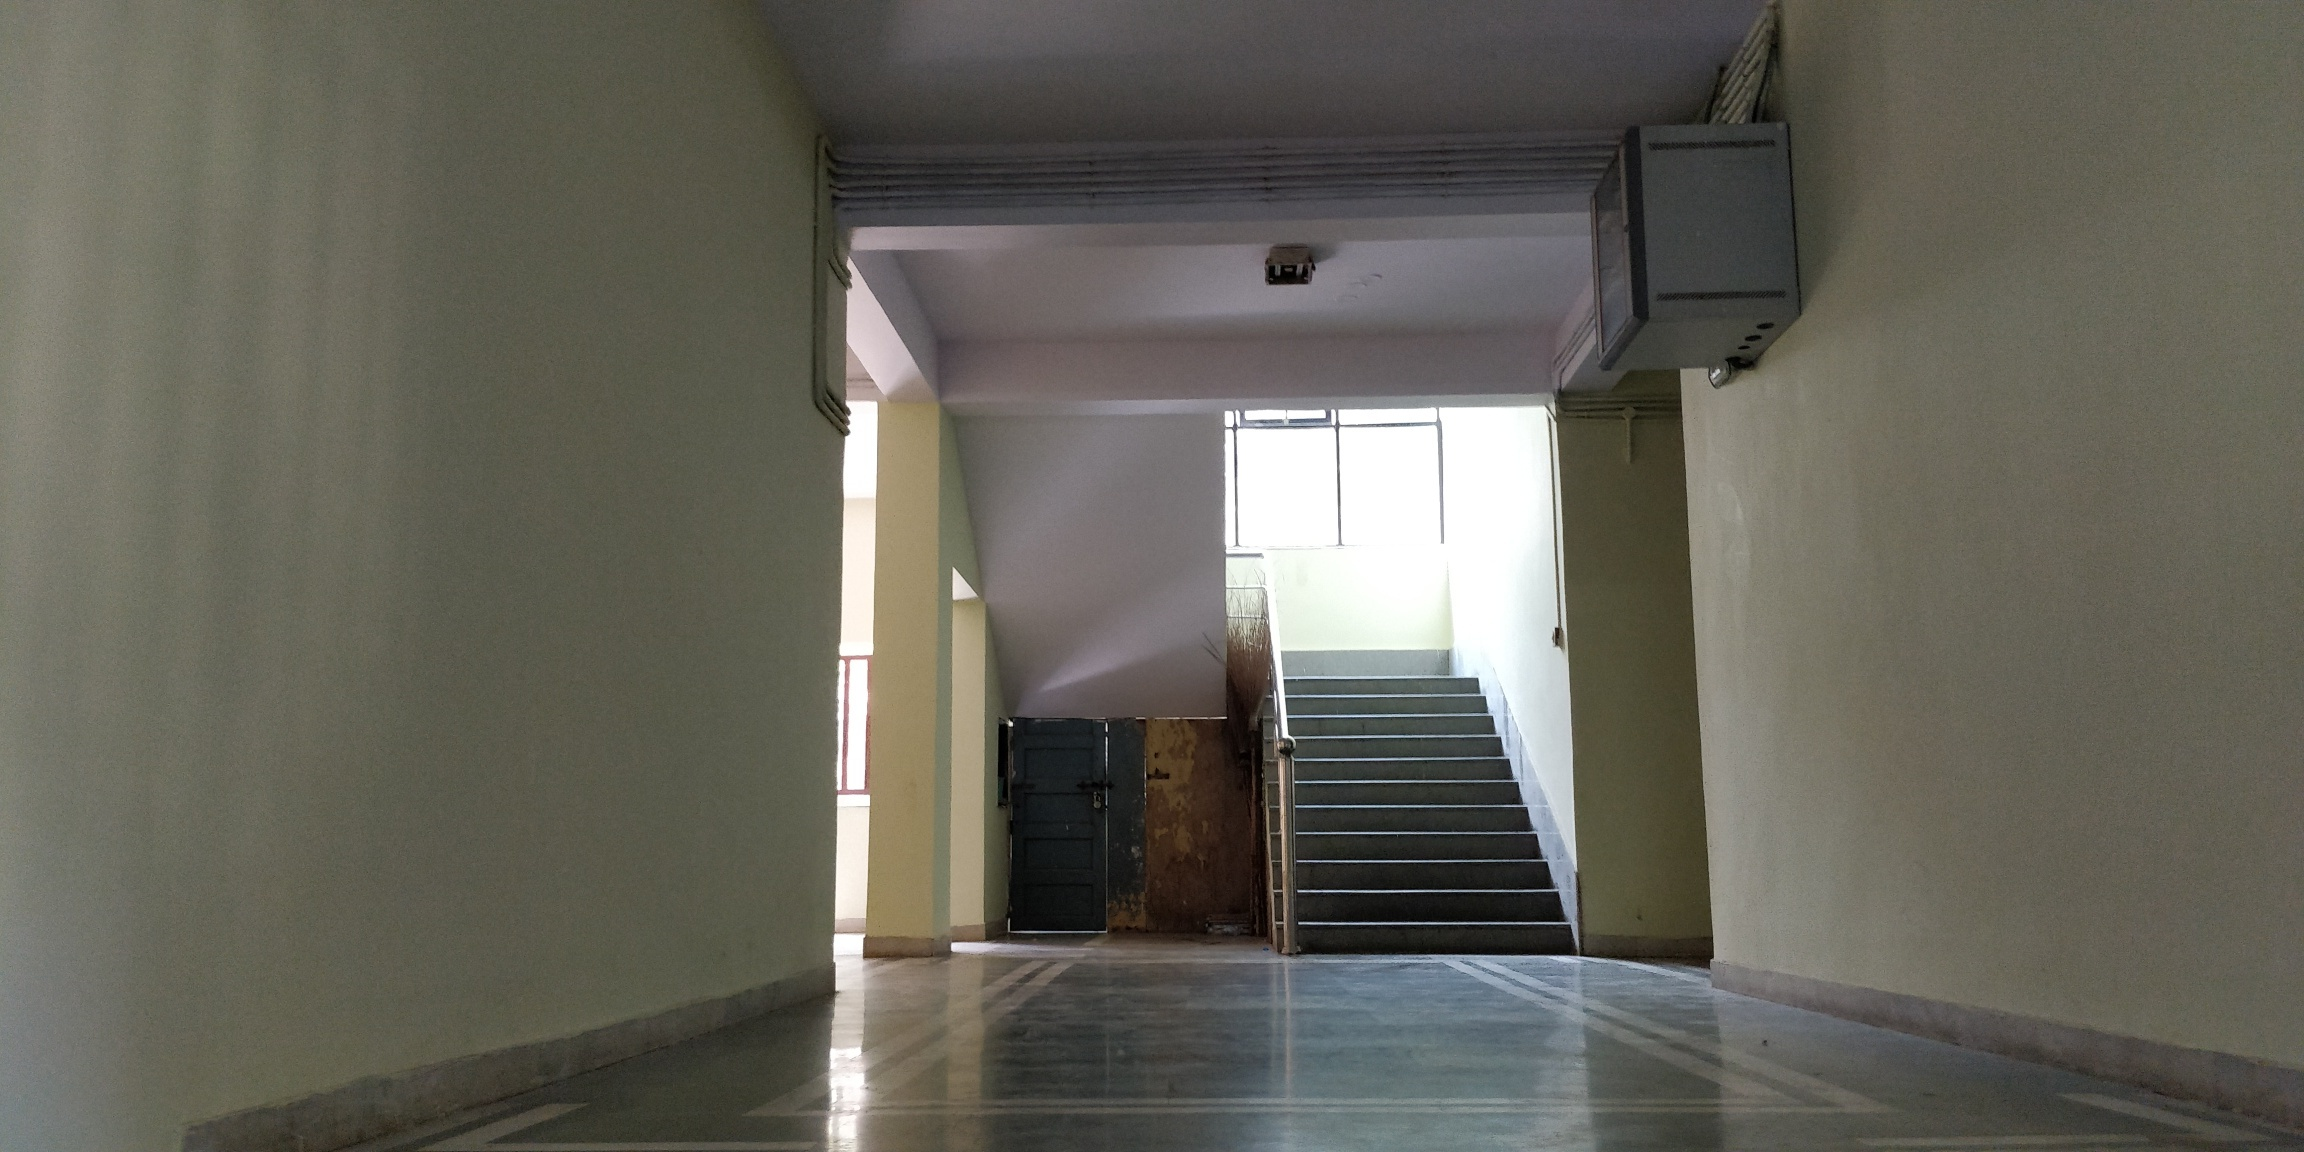stairs_up: (1270, 674, 1569, 976)
